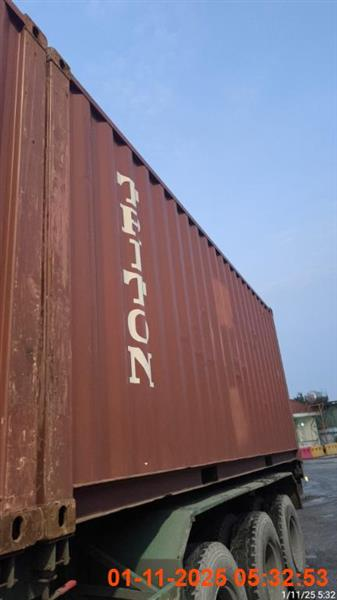dent: (0, 0, 309, 599)
